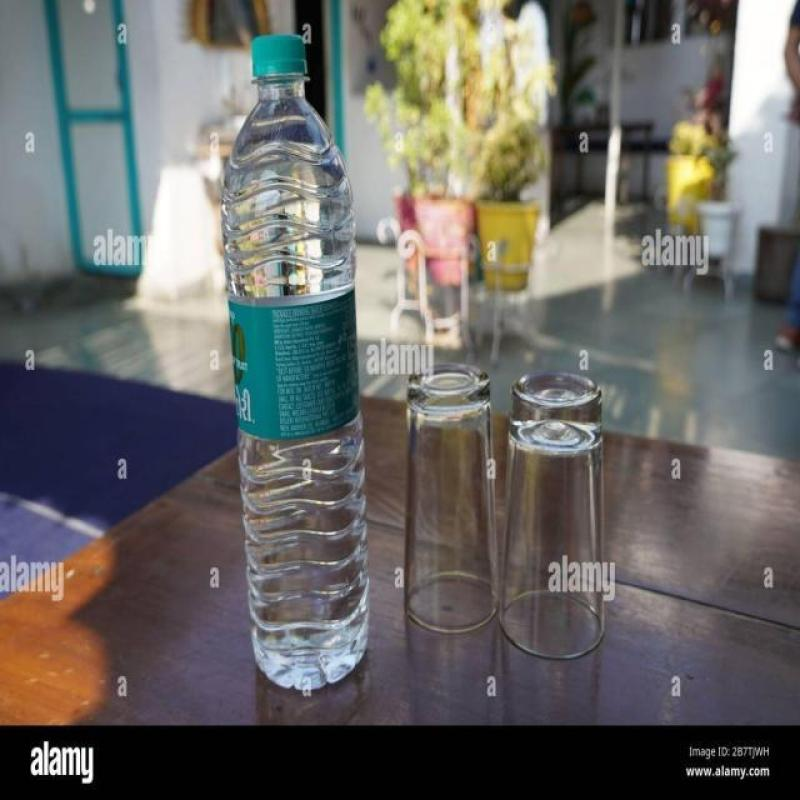botella: (222, 34, 370, 688)
